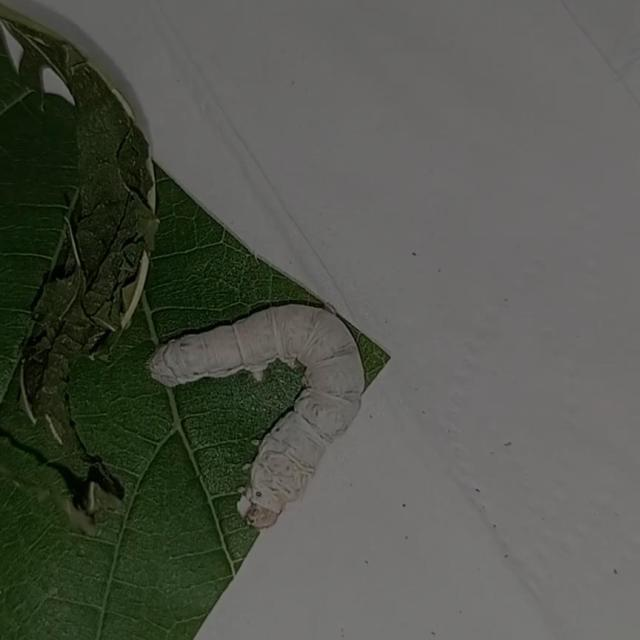Healthy: (127, 246, 440, 553)
